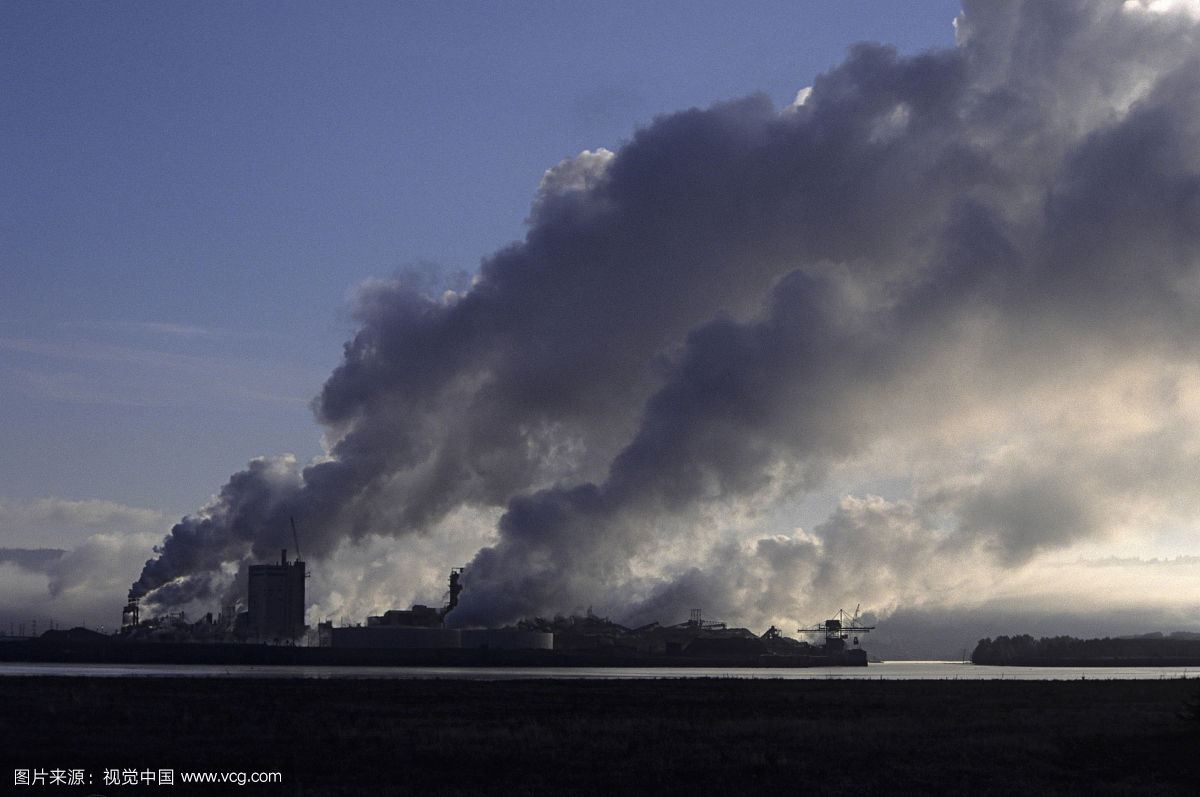dust: (394, 368, 685, 630), (627, 492, 984, 652), (106, 447, 354, 610)
